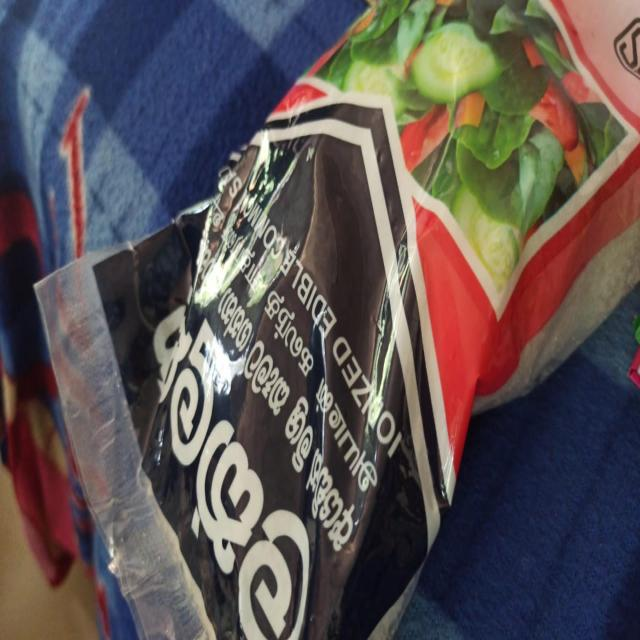Lak Lunu: (23, 5, 640, 639)
